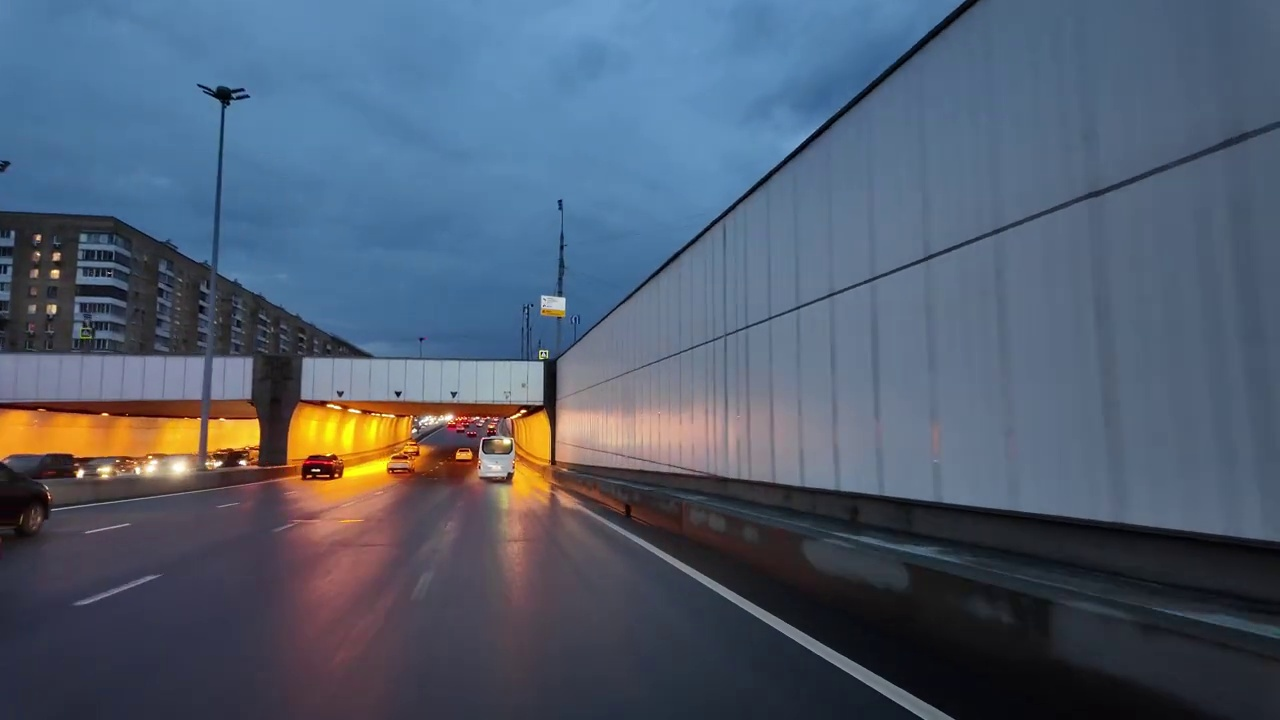acesa: (540, 297, 566, 320)
apagada: (193, 77, 250, 112), (931, 0, 979, 39)
